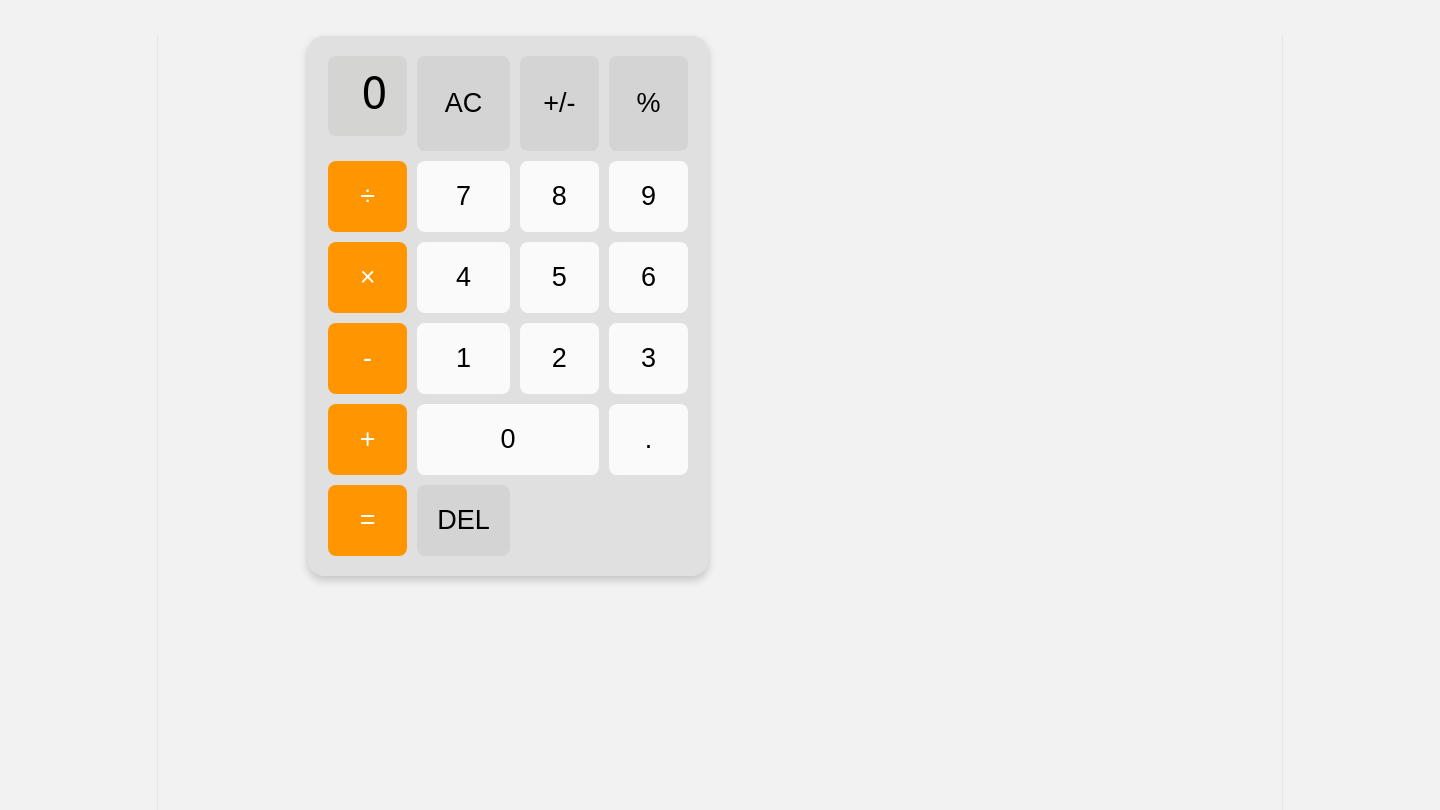
Test: Calculator › should perform a simple calculation via clicks
The width and height of the screenshot is (1440, 810).
Click the button "1". click: click(463, 358)
box: x1=417 y1=323 x2=510 y2=394
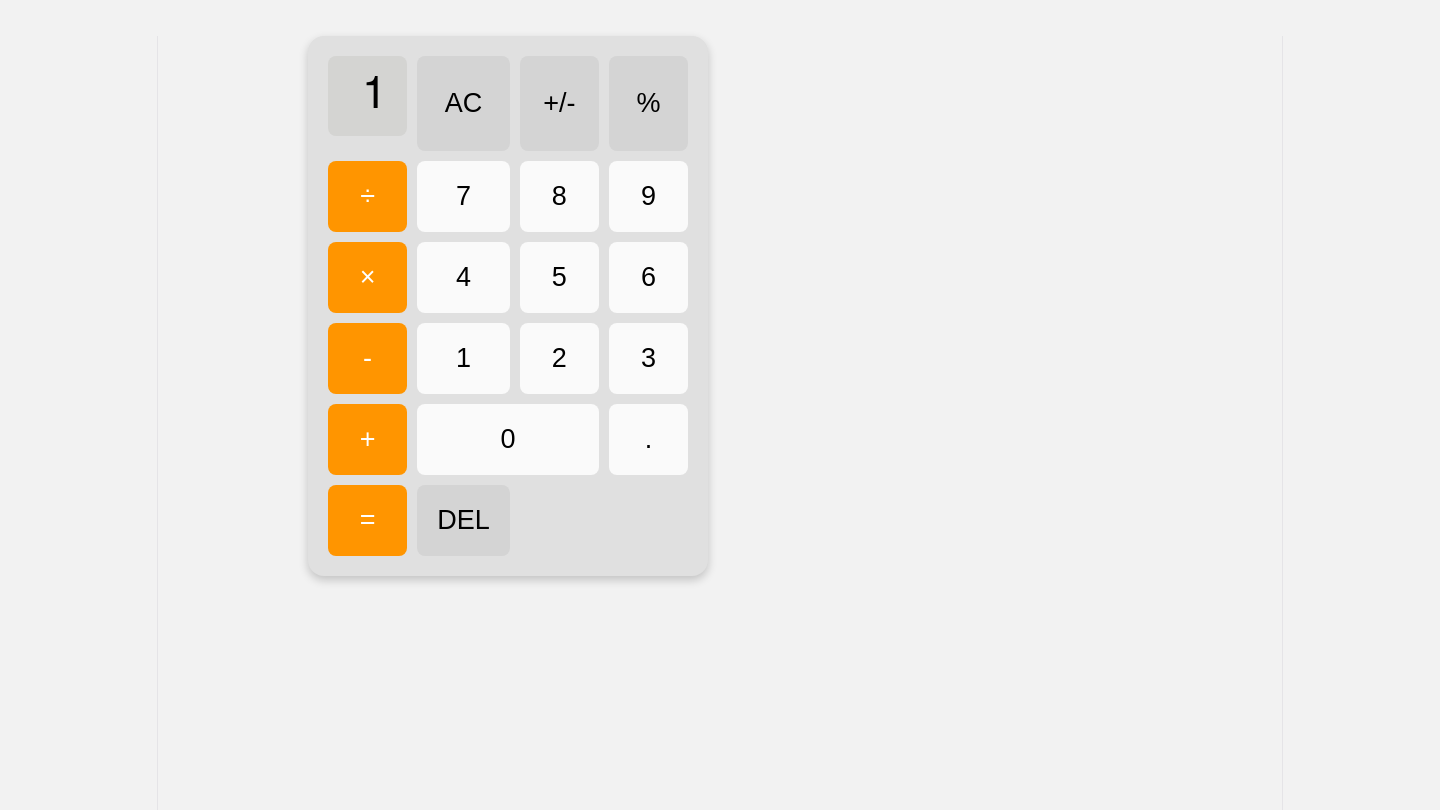
Click the button "+". click: click(368, 440)
box: x1=328 y1=404 x2=407 y2=475
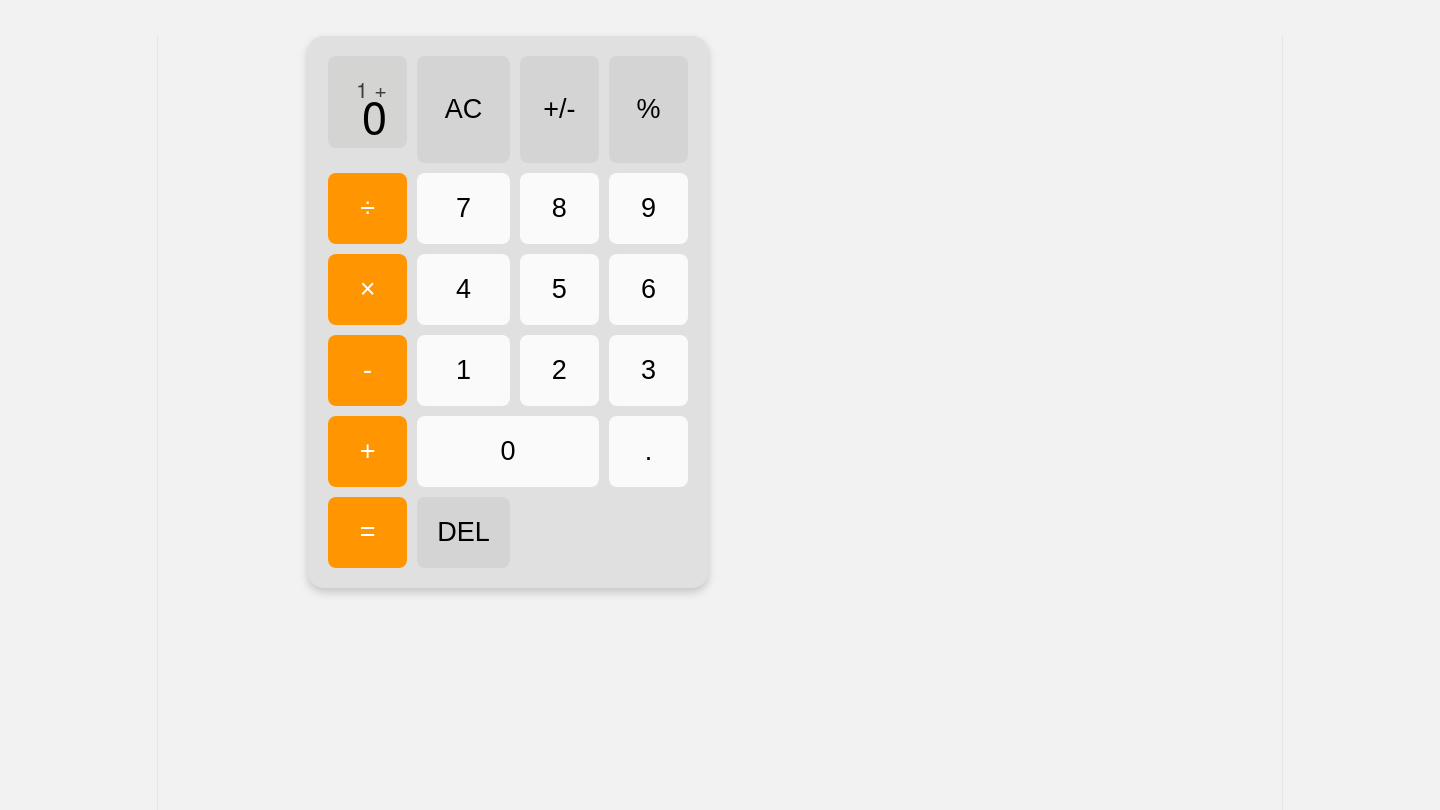
Click the button "2". click: click(559, 371)
box: x1=520 y1=335 x2=599 y2=406
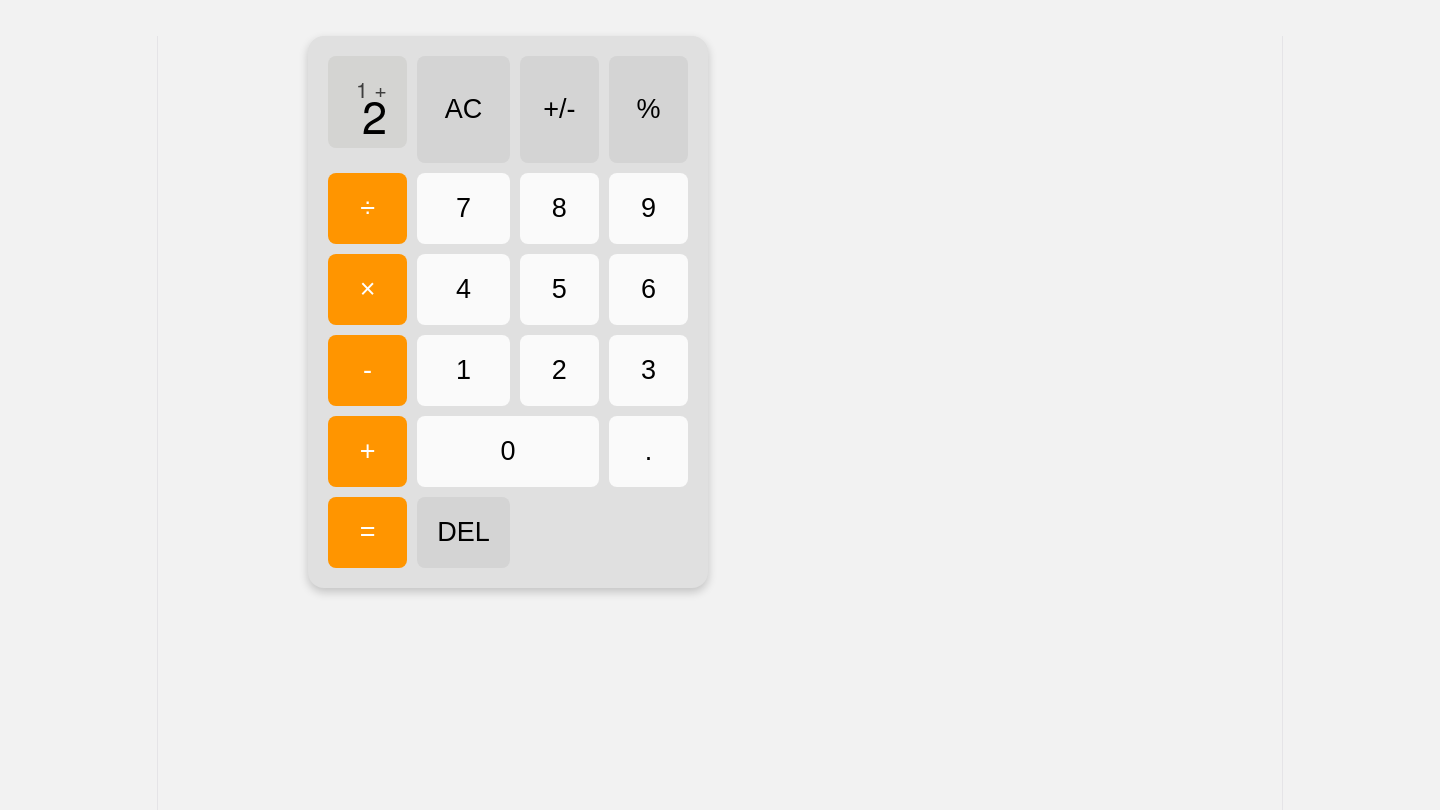
Click the button "=". click: click(368, 533)
box: x1=328 y1=497 x2=407 y2=568
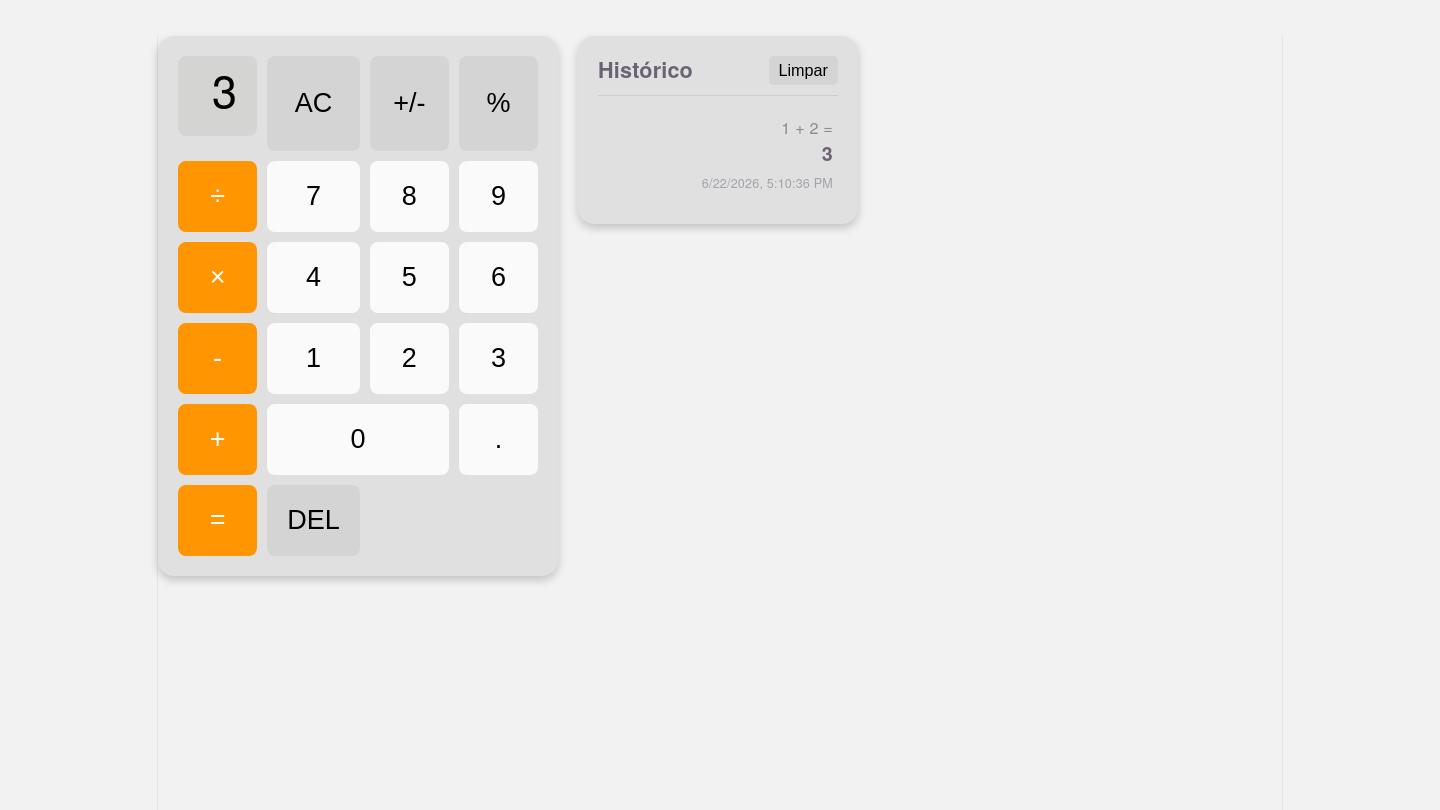
Now the 1st text "3" is shown, box x1=212 y1=56 x2=237 y2=121
